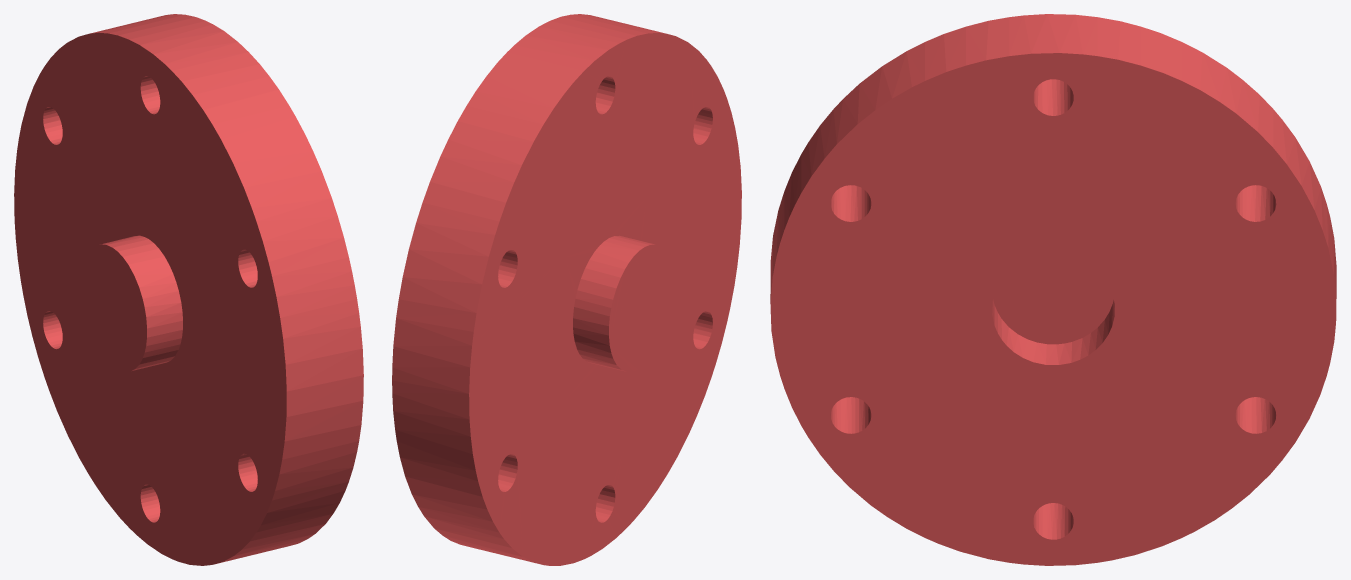
The picture shows the model from 3 angles, left to right: view 1: azimuth 30°, elevation 25°; view 2: azimuth 150°, elevation 25°; view 3: azimuth 270°, elevation 25°; orthographic projection. The views are drawn at different scales.
Visible parts, largest first — view 1: link_6; view 2: link_6; view 3: link_6.
Boxes of the visible parts, x1,y1,x2,y2 form: link_6: (14,14,363,565); link_6: (392,14,741,565); link_6: (770,14,1336,565).
Size of the model in its own units: 0.011 by 0.046 by 0.046.
